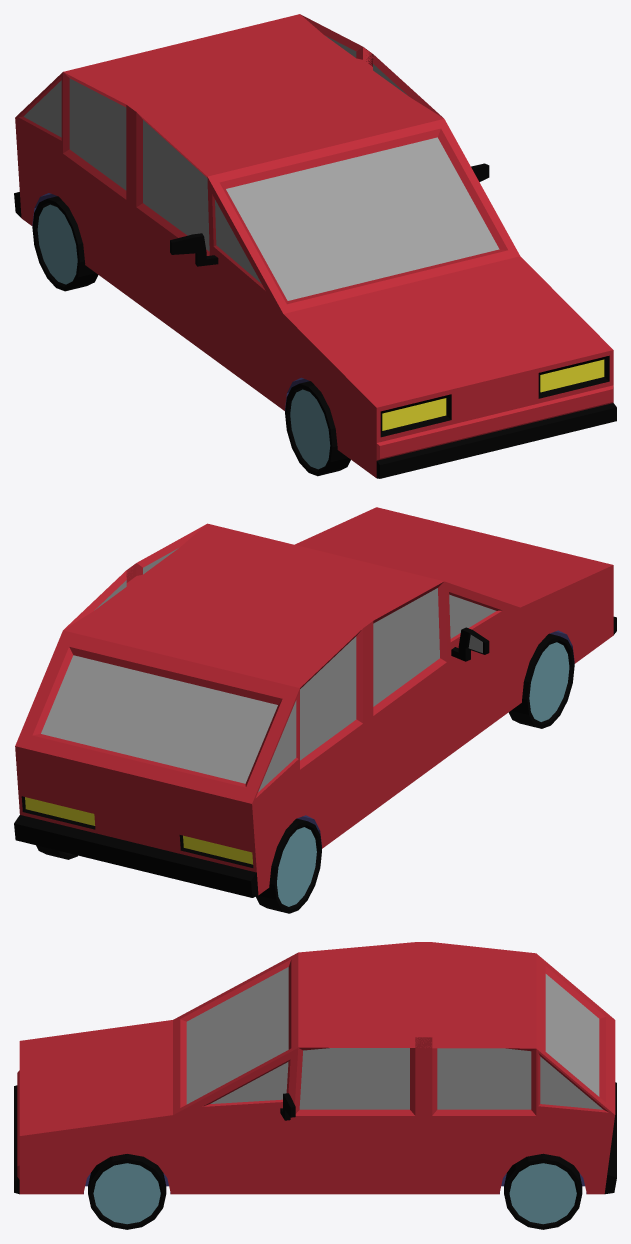
The model's file is Hatchback car 2.fbx.
3 views of the same model, one above another, from view 1: azimuth 30°, elevation 25°; view 2: azimuth 150°, elevation 25°; view 3: azimuth 270°, elevation 25° (orthographic). The views are drawn at different scales.
Visible parts, largest first — view 1: Hatchback Car Body.002, Wheel RR.014, Wheel FR.016; view 2: Hatchback Car Body.002, Wheel FR.016, Wheel RR.014; view 3: Hatchback Car Body.002, Wheel RL.014, Wheel FL.016.
Boxes of the visible parts, bbox=[...] form: Hatchback Car Body.002: bbox=[14, 14, 616, 478]; Wheel RR.014: bbox=[32, 196, 98, 291]; Wheel FR.016: bbox=[285, 381, 350, 476]; Hatchback Car Body.002: bbox=[14, 507, 616, 897]; Wheel FR.016: bbox=[508, 633, 574, 728]; Wheel RR.014: bbox=[256, 818, 321, 913]; Hatchback Car Body.002: bbox=[14, 942, 616, 1194]; Wheel RL.014: bbox=[504, 1153, 582, 1229]; Wheel FL.016: bbox=[88, 1154, 166, 1229].
Size of the model in its own units: 1.72 by 1.2 by 3.43.
